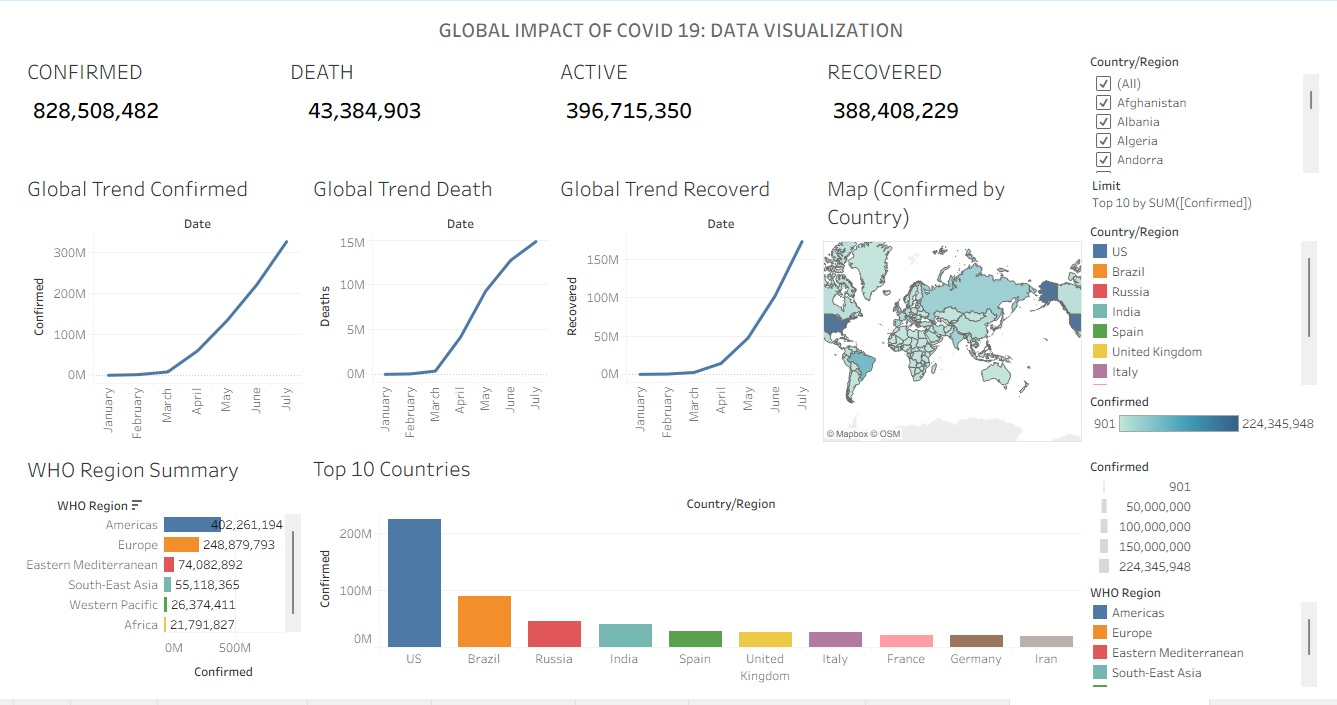

This screenshot's page, from the dashboard's own definition file:
{"tool":"tableau","page":{"name":"GGLOBAL IMPACT OF COVID 19: DATA VISUALIZATION","canvas":[1000,1000],"units":"permille","ordinal":0},"visuals":[{"type":"text","box":[6.1,15.2,987.9,57]},{"type":"worksheet","title":"CONFIRMED","mark":"Text","box":[6.1,72.1,199.6,166]},{"type":"worksheet","title":"DEATH","mark":"Text","box":[205.6,72.1,203.9,166]},{"type":"worksheet","title":"ACTIVE","mark":"Text","box":[409.5,72.1,202.4,166]},{"type":"worksheet","title":"RECOVERED","mark":"Text","box":[611.9,72.1,202.5,166]},{"type":"filter","title":"Top 10 Countries","param":"[federated.0cqeoo61s9j46j17lc3vq15ppq27].[none:Country/Region:nk]","box":[814.4,72.1,179.6,193.1]},{"type":"worksheet","title":"Global Trend Confirmed","mark":"Line","rows":["Confirmed"],"cols":["Date"],"box":[6.1,238.2,216.7,399.3]},{"type":"worksheet","title":"Global Trend Death","mark":"Line","rows":["Deaths"],"cols":["Date"],"box":[222.7,238.2,187.4,398.5]},{"type":"worksheet","title":"Global Trend Recoverd","mark":"Line","rows":["Recovered"],"cols":["Date"],"box":[410.2,238.2,202.1,398.5]},{"type":"worksheet","title":"Map (Confirmed by Country)","mark":"Multipolygon","rows":["Lat"],"cols":["Long"],"box":[612.3,238.2,202.1,398.5]},{"type":"legend","title":"Top 10 Countries","param":"[federated.0cqeoo61s9j46j17lc3vq15ppq27].[none:Country/Region:nk]","box":[814.4,265.3,179.6,193.1]},{"type":"legend","title":"Map (Confirmed by Country)","param":"[federated.0cqeoo61s9j46j17lc3vq15ppq27].[sum:Confirmed:qk]","box":[814.4,458.4,179.6,123.1]},{"type":"legend","title":"Map (Confirmed by Country)","param":"[federated.0cqeoo61s9j46j17lc3vq15ppq27].[sum:Confirmed:qk]","box":[814.4,581.5,179.6,193.1]},{"type":"worksheet","title":"Top 10 Countries","mark":"Bar","rows":["Confirmed"],"cols":["Country/Region"],"box":[222.7,636.6,591.7,348.2]},{"type":"worksheet","title":"WHO Region Summary","mark":"Automatic","rows":["WHO Region"],"cols":["Confirmed"],"box":[6.1,637.5,216.7,347.4]},{"type":"legend","title":"WHO Region Summary","param":"[federated.0cqeoo61s9j46j17lc3vq15ppq27].[none:WHO Region:nk]","box":[814.4,774.6,179.6,210.2]}]}

Visuals, with their boxes on the dashboard's canvas, which has no fixed pixel size, in thousandths of its width and height (x1, y1, x2, y2). These are canvas units, not pixel positions in the 1337x705 screenshot, which may show the page scaled, cropped or inside an application window:
text: (6,15,994,72)
"CONFIRMED" worksheet (Text marks): (6,72,206,238)
"DEATH" worksheet (Text marks): (206,72,410,238)
"ACTIVE" worksheet (Text marks): (410,72,612,238)
"RECOVERED" worksheet (Text marks): (612,72,814,238)
"Top 10 Countries" filter: (814,72,994,265)
"Global Trend Confirmed" worksheet (Line marks): (6,238,223,638)
"Global Trend Death" worksheet (Line marks): (223,238,410,637)
"Global Trend Recoverd" worksheet (Line marks): (410,238,612,637)
"Map (Confirmed by Country)" worksheet (Multipolygon marks): (612,238,814,637)
"Top 10 Countries" legend: (814,265,994,458)
"Map (Confirmed by Country)" legend: (814,458,994,582)
"Map (Confirmed by Country)" legend: (814,582,994,775)
"Top 10 Countries" worksheet (Bar marks): (223,637,814,985)
"WHO Region Summary" worksheet: (6,638,223,985)
"WHO Region Summary" legend: (814,775,994,985)
